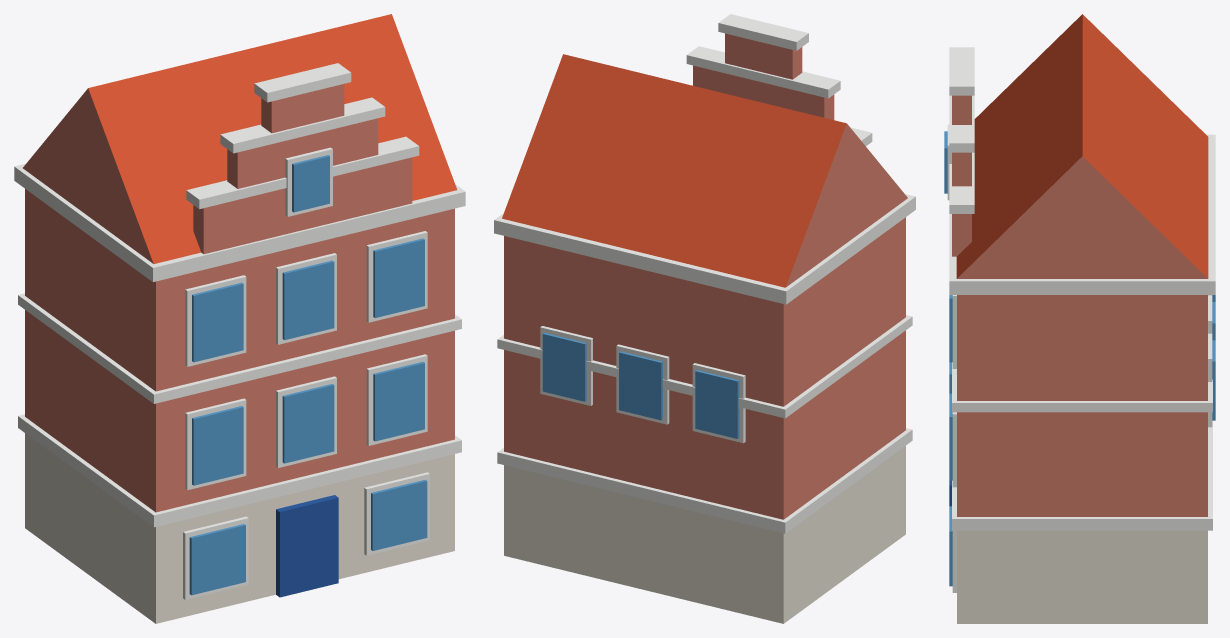
The model's file is 50_kgd_baroque_1.obj.
3 views of the same model, side by side, from view 1: azimuth 30°, elevation 25°; view 2: azimuth 150°, elevation 25°; view 3: azimuth 270°, elevation 25° (orthographic). The views are drawn at different scales.
Visible parts, largest first — view 1: 50_kgd_baroque_1; view 2: 50_kgd_baroque_1; view 3: 50_kgd_baroque_1.
Part boxes in pixels (x1=…): 50_kgd_baroque_1: x1=14, y1=14, x2=465, y2=623; 50_kgd_baroque_1: x1=494, y1=14, x2=915, y2=623; 50_kgd_baroque_1: x1=944, y1=14, x2=1215, y2=623.
Size of the model in its own units: 1.38 by 2.14 by 1.08.
